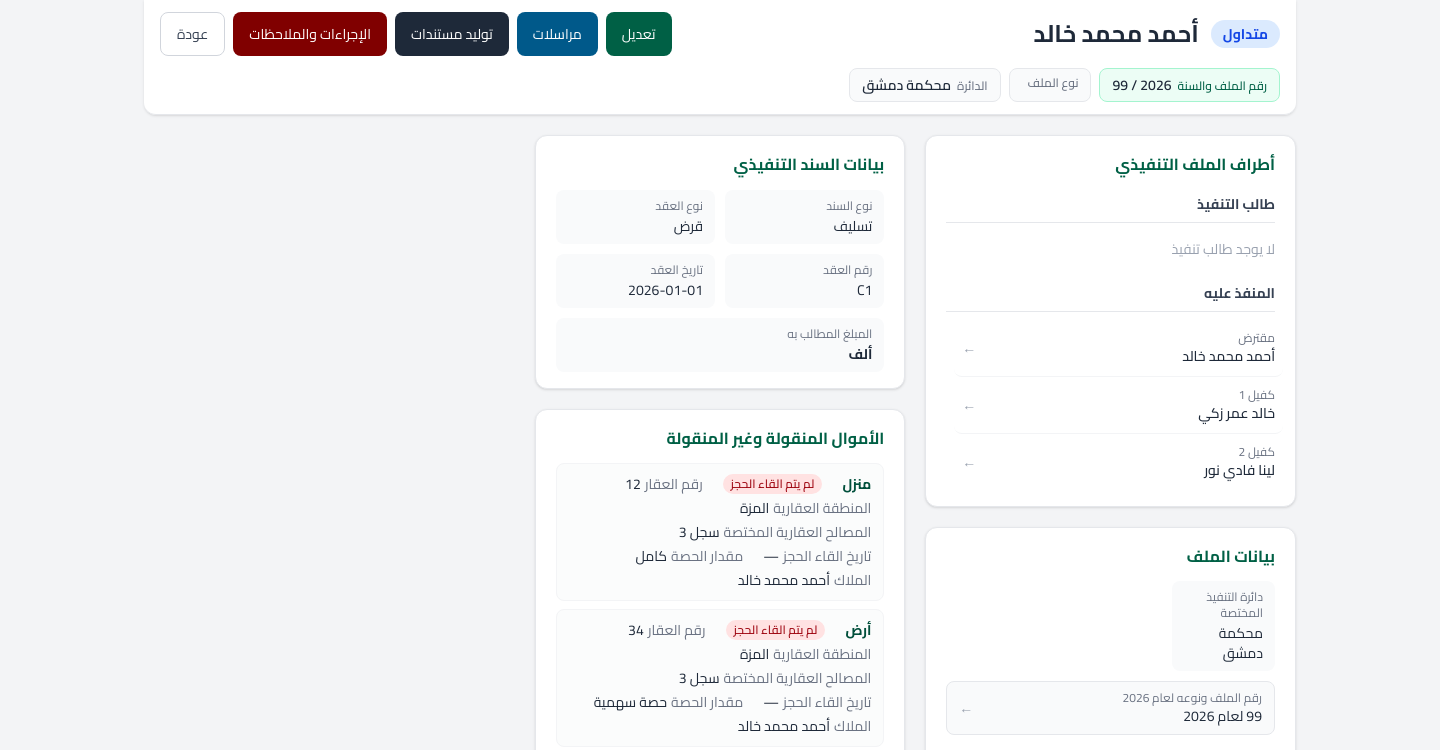
Test case: DocumentView › يعرض اسم المقترض في بطاقة أطراف الملف ويفتح نافذة بهويته الكاملة عند الضغط
What coordinates should you click on to do the following:
click the text "أحمد محمد خالد" below "المنفذ عليه"
I would click on:
 (1229, 356)
Its box is [1182,343,1275,369].
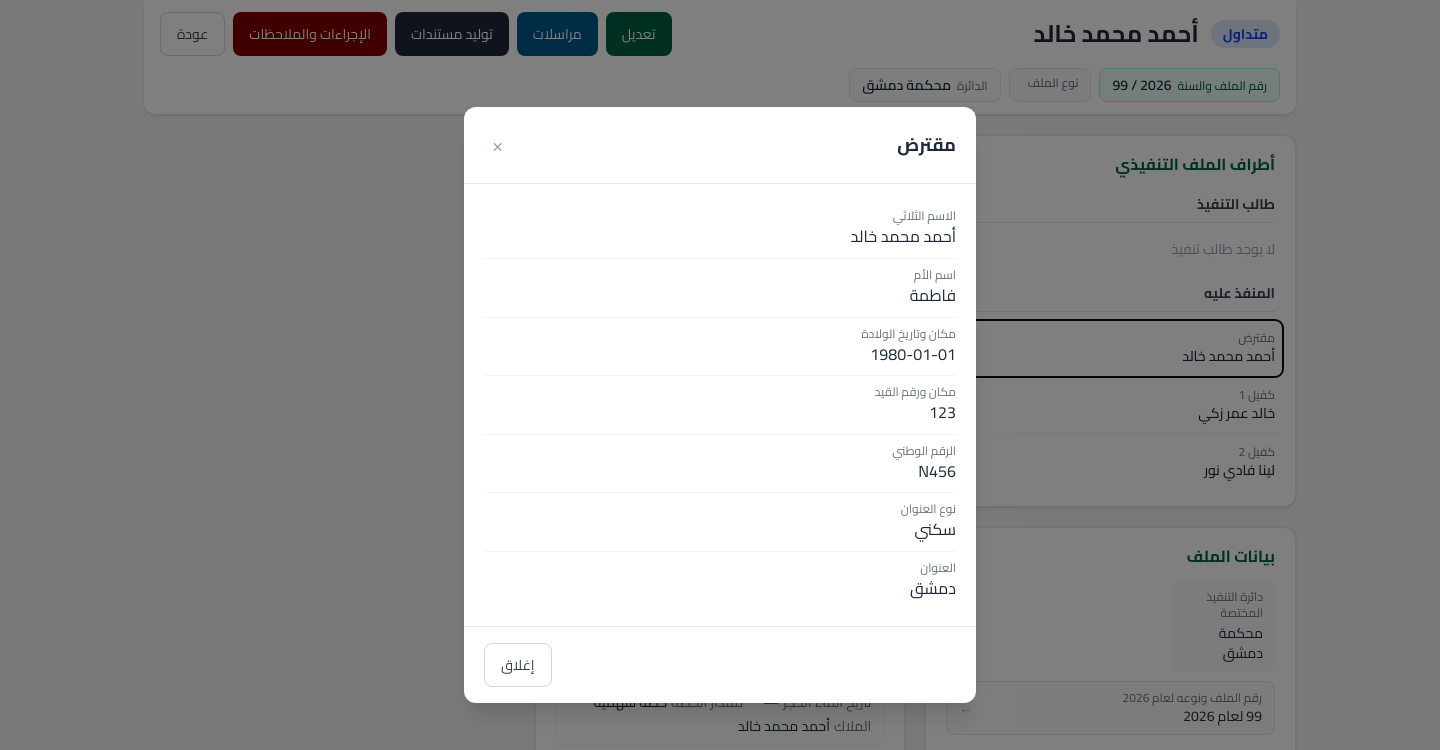
Check: the text "أحمد محمد خالد" is shown, box [851,221,956,251]
Check: the text "فاطمة" is shown, box [910,280,956,310]
Check: the text "1980-01-01" is shown, box [870,339,956,369]
